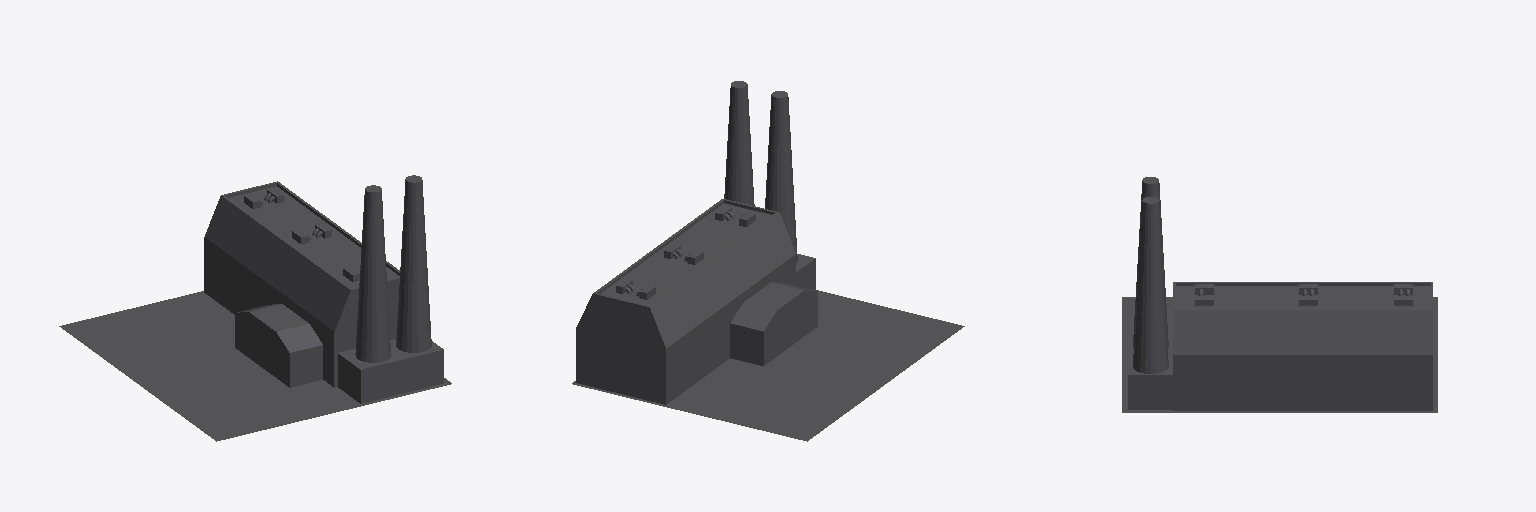
Rendered from factory1.obj.
3 renders of one model, left to right at view 1: azimuth 30°, elevation 25°; view 2: azimuth 150°, elevation 25°; view 3: azimuth 270°, elevation 25°, orthographic.
Visible parts, largest first — view 1: Polysurface231; view 2: Polysurface231; view 3: Polysurface231.
Part boxes in pixels (bbox=[...]): Polysurface231: bbox=[59, 175, 451, 441]; Polysurface231: bbox=[572, 81, 964, 441]; Polysurface231: bbox=[1122, 177, 1437, 412].
Bounding box in the file's own units: 1.73 × 1.42 × 2.